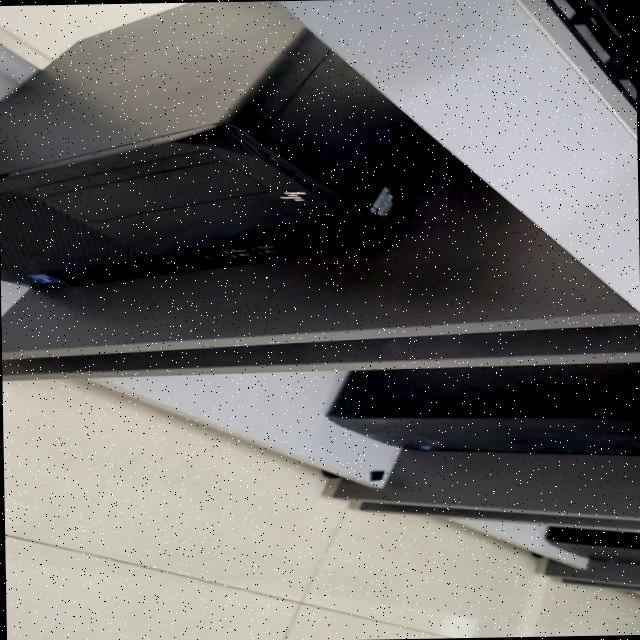Cpu: (0, 1, 440, 287), (326, 363, 640, 455), (545, 527, 640, 565)
Keyboard: (544, 0, 636, 115)
